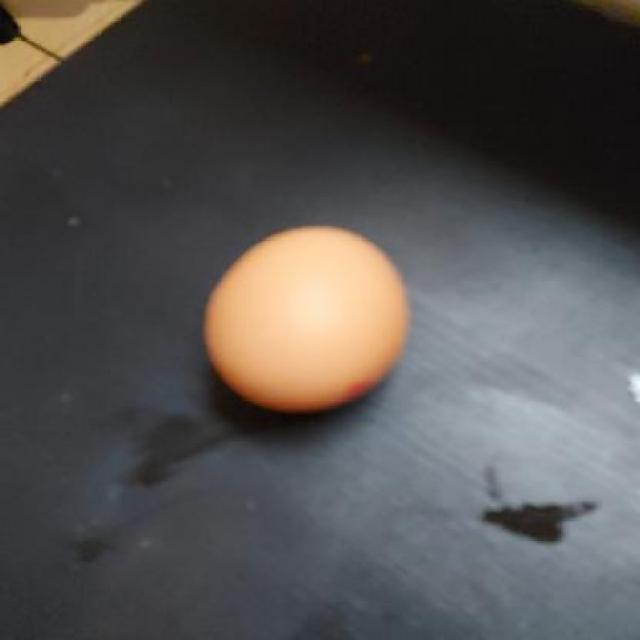biodegradable: (200, 227, 411, 416)
